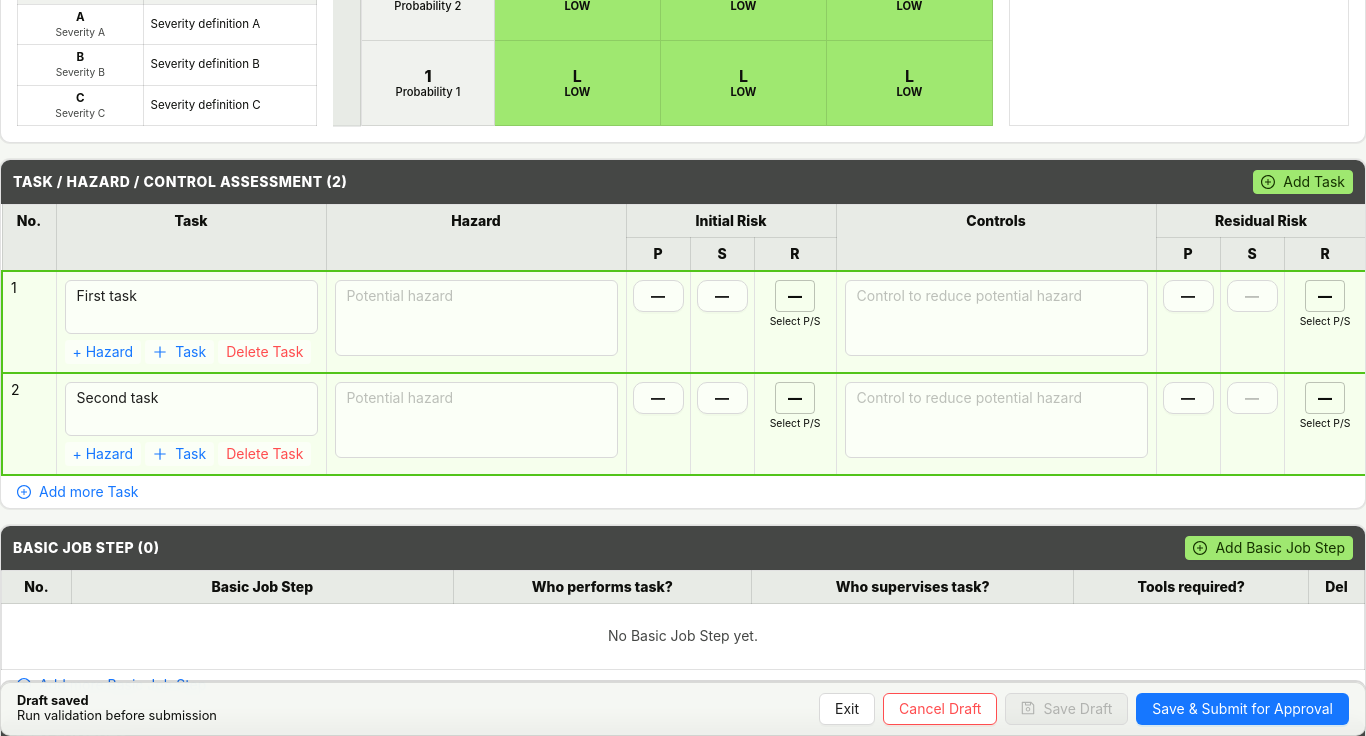
Scenario: JsaDraftEditor single-page worksheet › inserts and resequences a Task immediately after the selected Task
(page scrolled)
Click the button with aria-label "Insert task after task 1": click(180, 352) [145, 340, 214, 364]
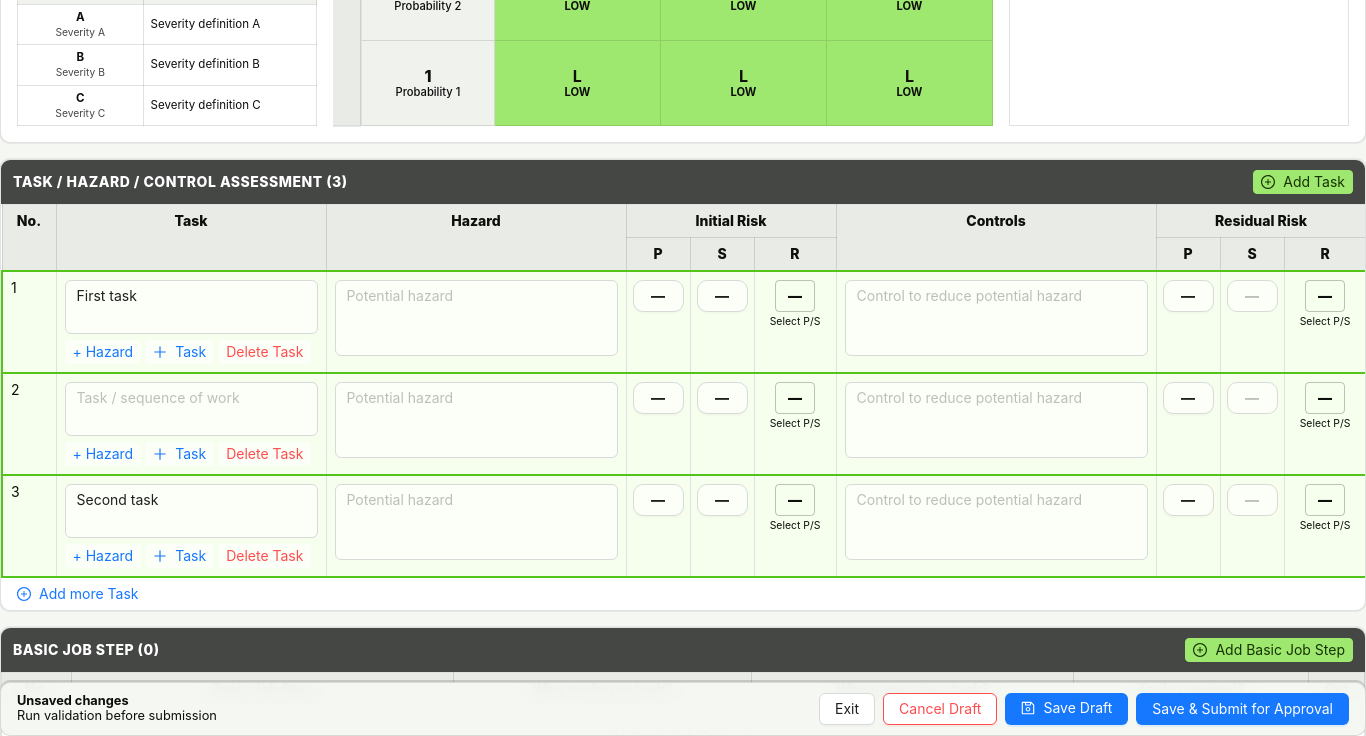
Expected: the number of buttons named "Insert task after task" is 3, [145, 340, 214, 364]; [145, 442, 214, 466]; [145, 544, 214, 568]
Expected: the button with aria-label "Insert task after task 3" is shown, [145, 544, 214, 568]
Expected: the text box showing "Second task" is shown, [64, 484, 318, 538]
